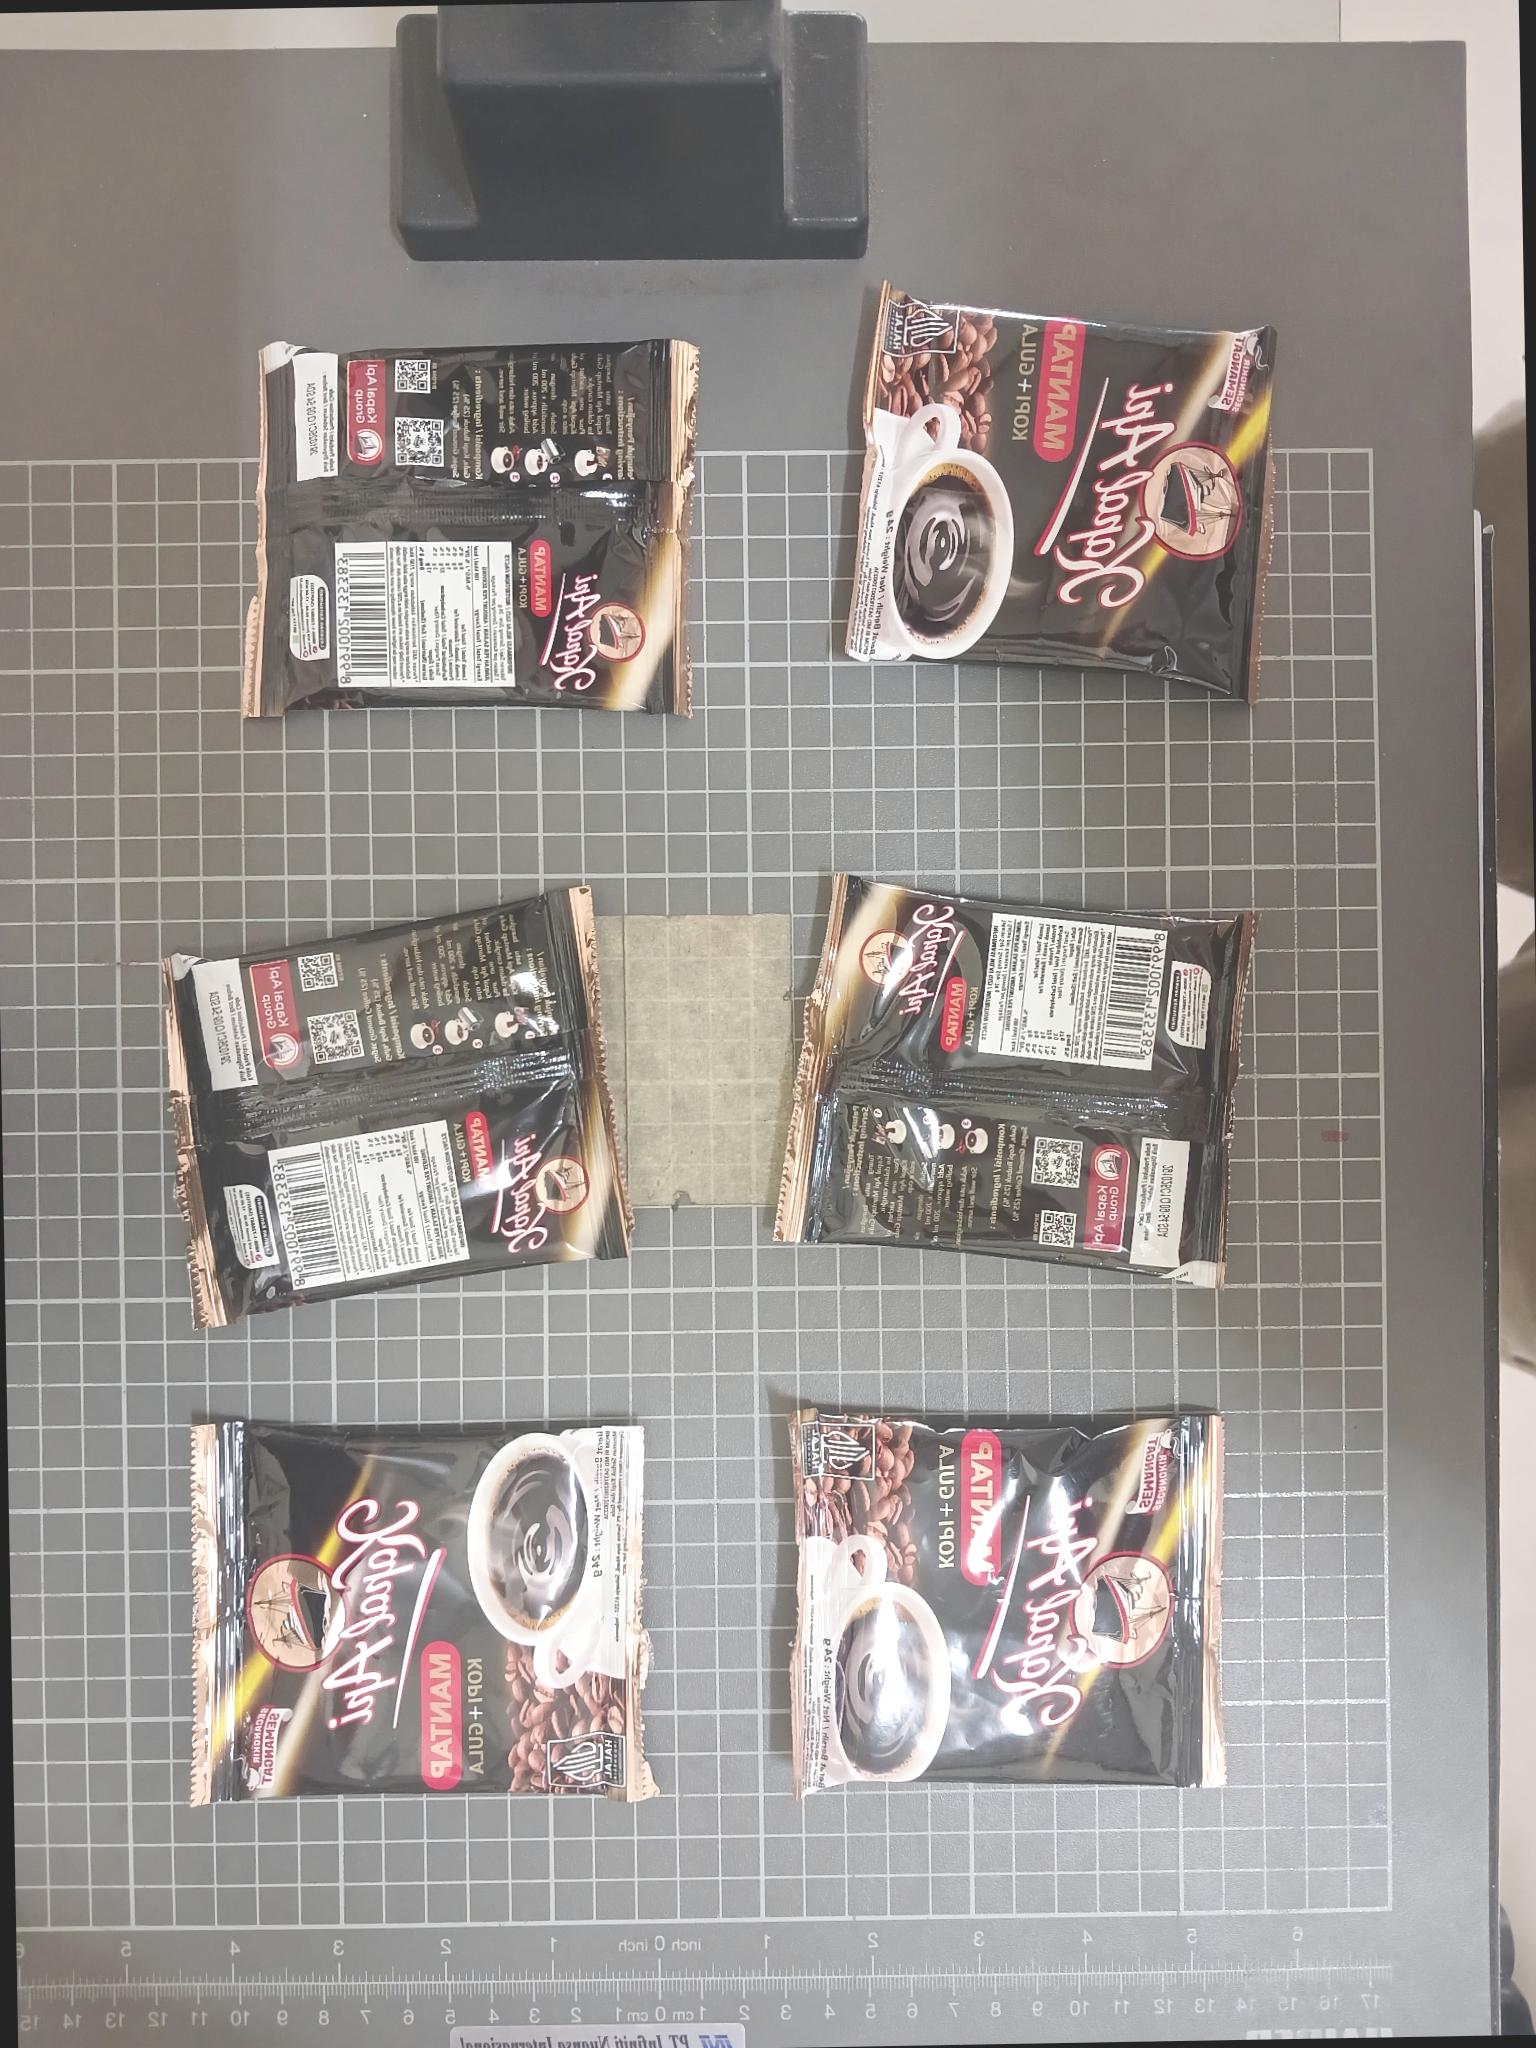back: (150, 879, 641, 1332), (771, 869, 1258, 1292), (240, 337, 700, 719)
front: (841, 282, 1278, 706), (187, 1421, 652, 1809), (789, 1406, 1226, 1795)
